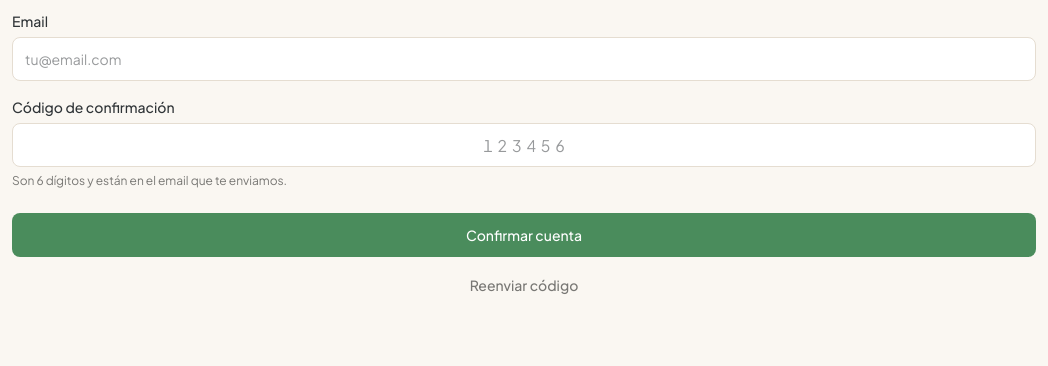
Test: ConfirmRegistrationForm — reenviar código (S5) › asks for a new code with the email typed in the form
Step 1. Type "ana@example.com" into the field labelled "Email" → (524, 59), box top-left (12, 37), bottom-right (1036, 81)
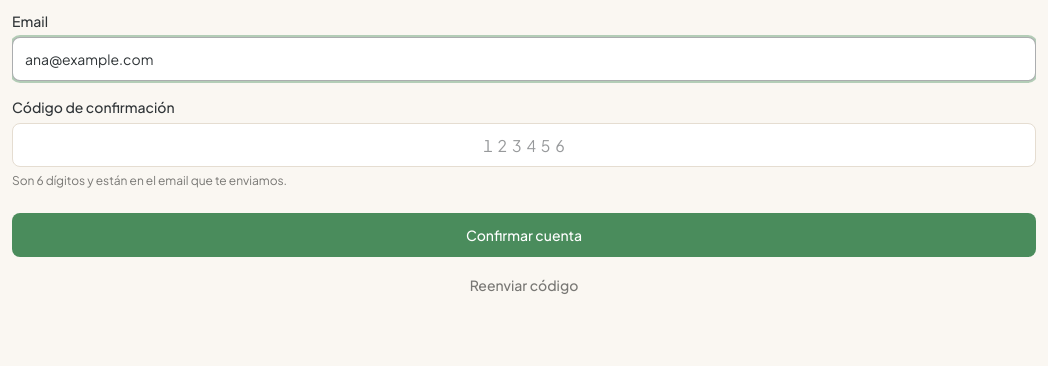
Step 2. Click the button "Reenviar código" → (524, 285), box top-left (470, 275), bottom-right (578, 295)
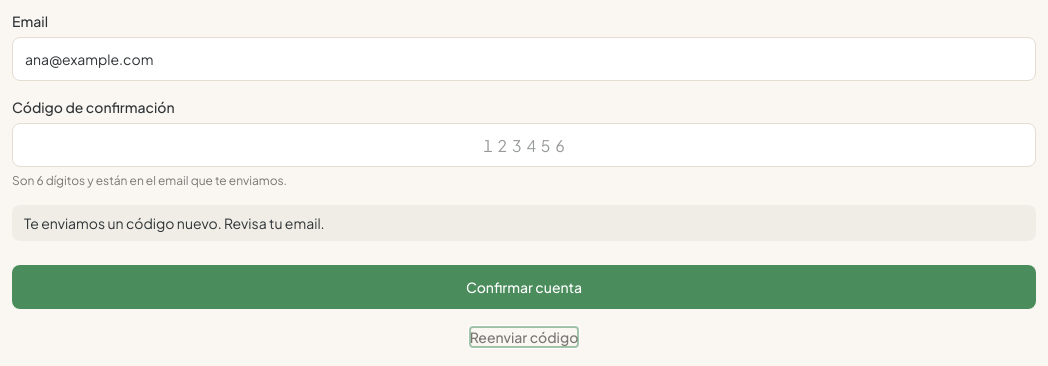
Expected: the text "Te enviamos un código nuevo. Revisa tu email." is shown, top-left (12, 205), bottom-right (1036, 241)
